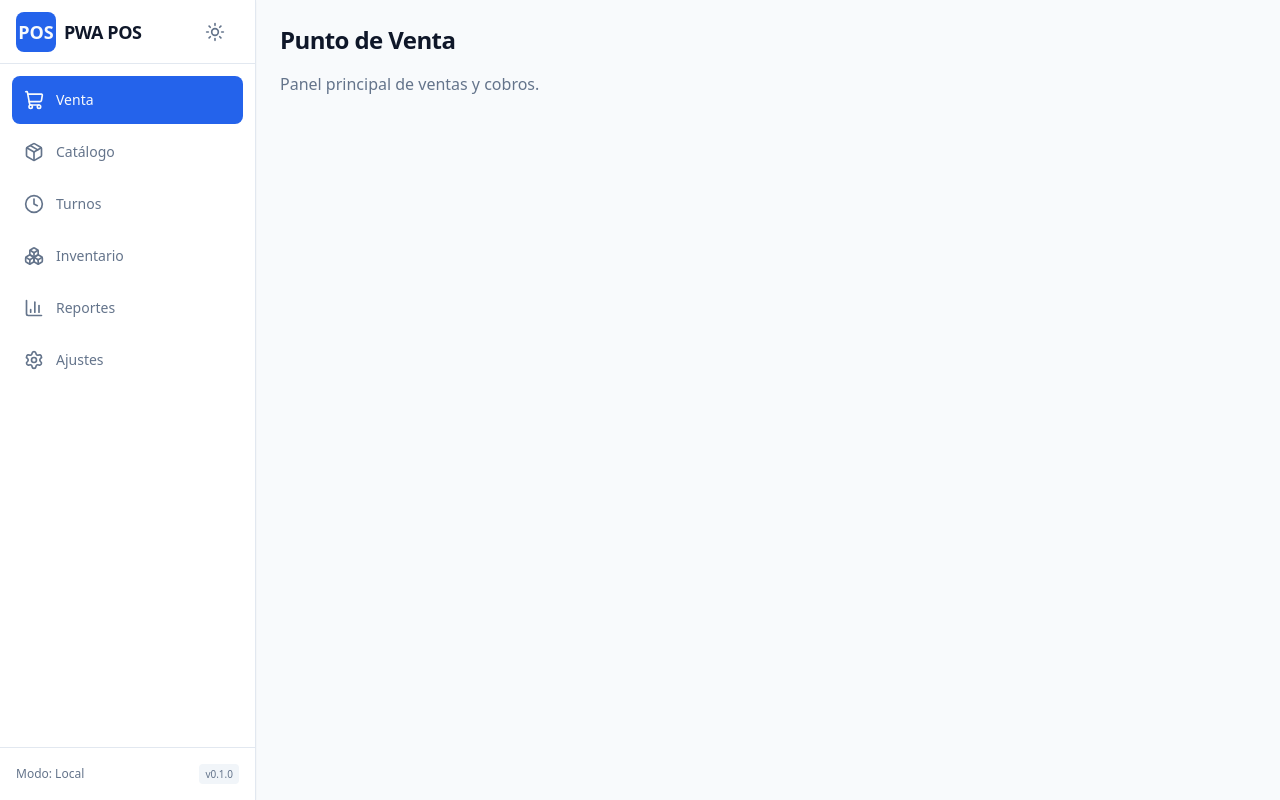
it: Navigation & Layout › navigates to catalog when clicking Catálogo link
The width and height of the screenshot is (1280, 800).
Click the link "Catálogo" at (69, 152), box x1=24 y1=142 x2=115 y2=162
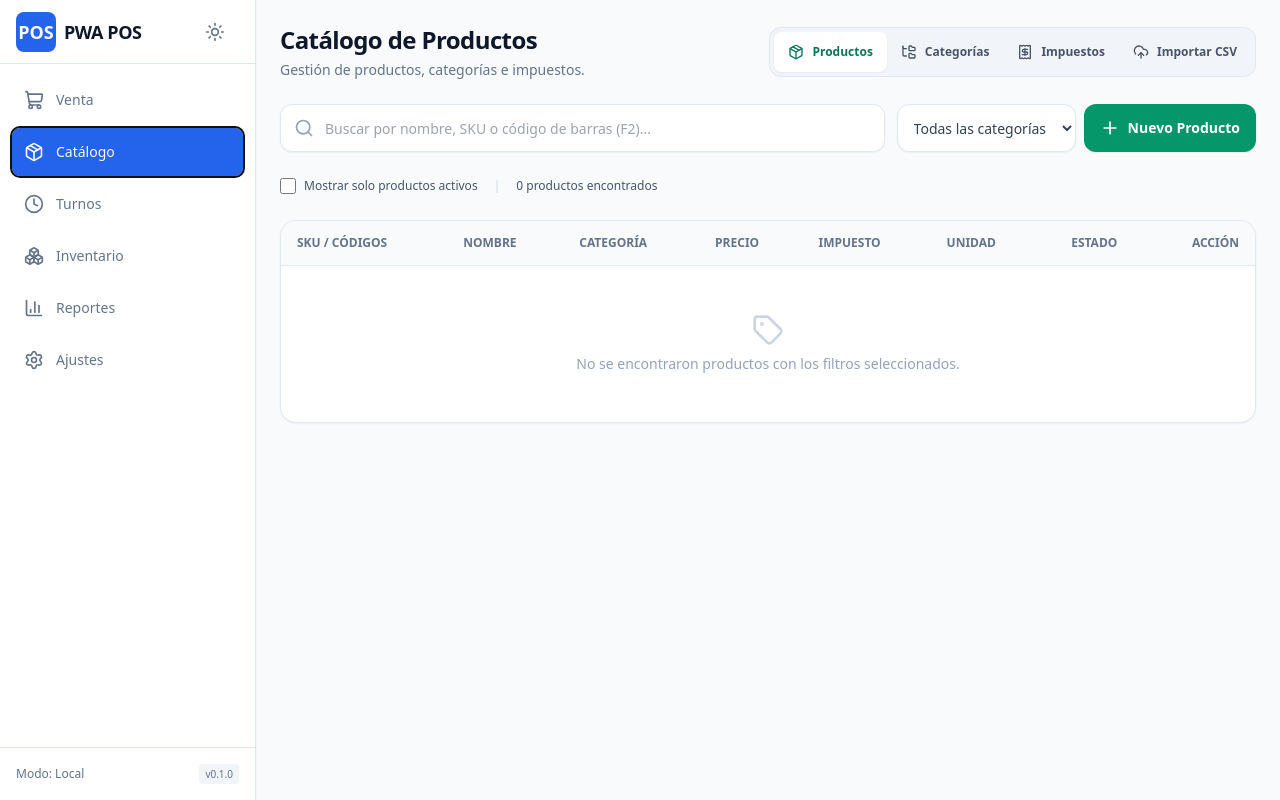
Expected: the heading "Catálogo de Productos" is shown, x1=280 y1=23 x2=537 y2=56
